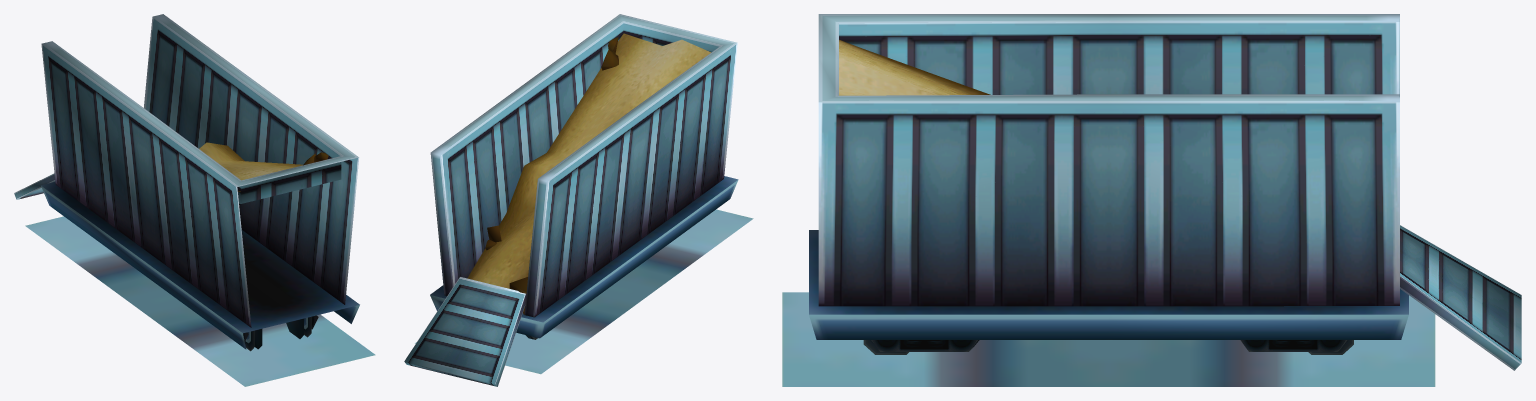
The model's file is train_ramp.fbx.
3 renders of one model, left to right at view 1: azimuth 30°, elevation 25°; view 2: azimuth 150°, elevation 25°; view 3: azimuth 270°, elevation 25°, orthographic. The views are drawn at different scales.
Visible parts, largest first — view 1: train_ramp_obj; view 2: train_ramp_obj; view 3: train_ramp_obj.
Part boxes in pixels (left/top/right/bottom): train_ramp_obj: left=14, top=14, right=375, bottom=386; train_ramp_obj: left=404, top=14, right=753, bottom=386; train_ramp_obj: left=782, top=14, right=1521, bottom=386.
Size of the model in its own units: 2058 by 2854 by 6792.
Materials: 1 (1 with a texture image).
